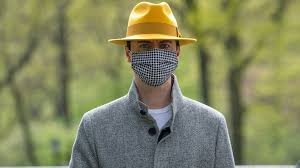with_mask: (125, 40, 182, 90)
